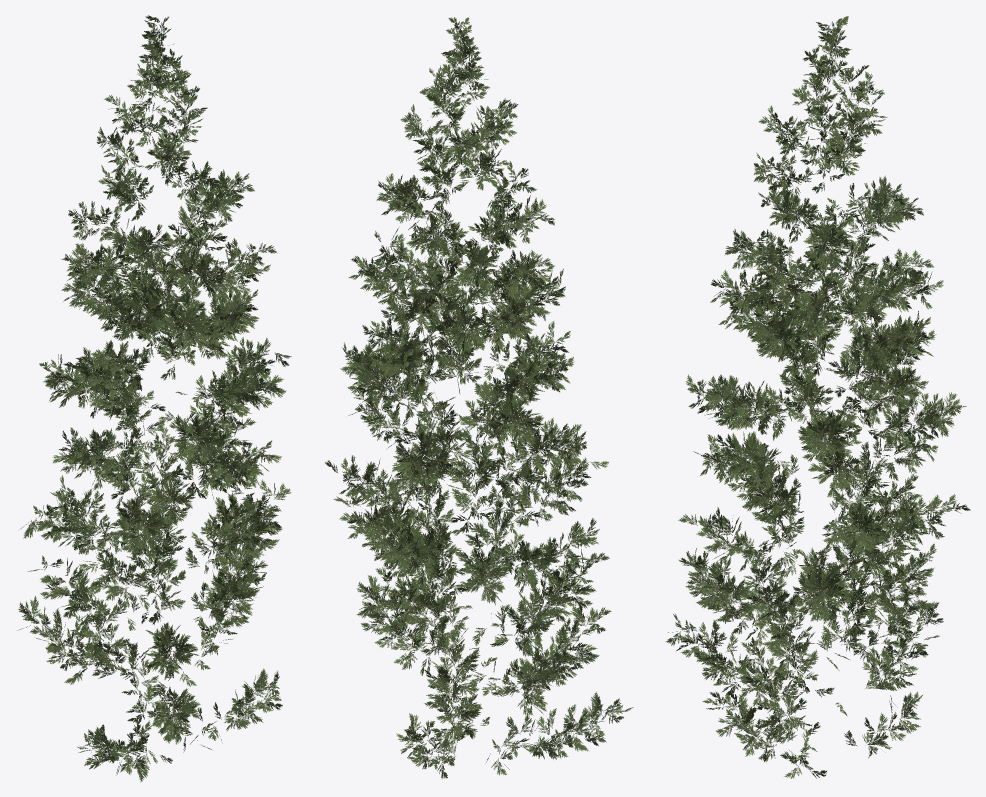
The model's file is MESH_CL04_CalocedrusDecurrens_M_LOD2.fbx.
3 renders of one model, left to right at view 1: azimuth 30°, elevation 25°; view 2: azimuth 150°, elevation 25°; view 3: azimuth 270°, elevation 25°, orthographic. The views are drawn at different scales.
Visible parts, largest first — view 1: MI_LOD2_001; view 2: MI_LOD2_001; view 3: MI_LOD2_001.
Part boxes in pixels (box(x1,y1,x2,y2)): MI_LOD2_001: box(18, 15, 291, 782); MI_LOD2_001: box(325, 17, 633, 778); MI_LOD2_001: box(665, 16, 970, 778).
Size of what is drawn, in the model's own units: 846 by 2355 by 868.
